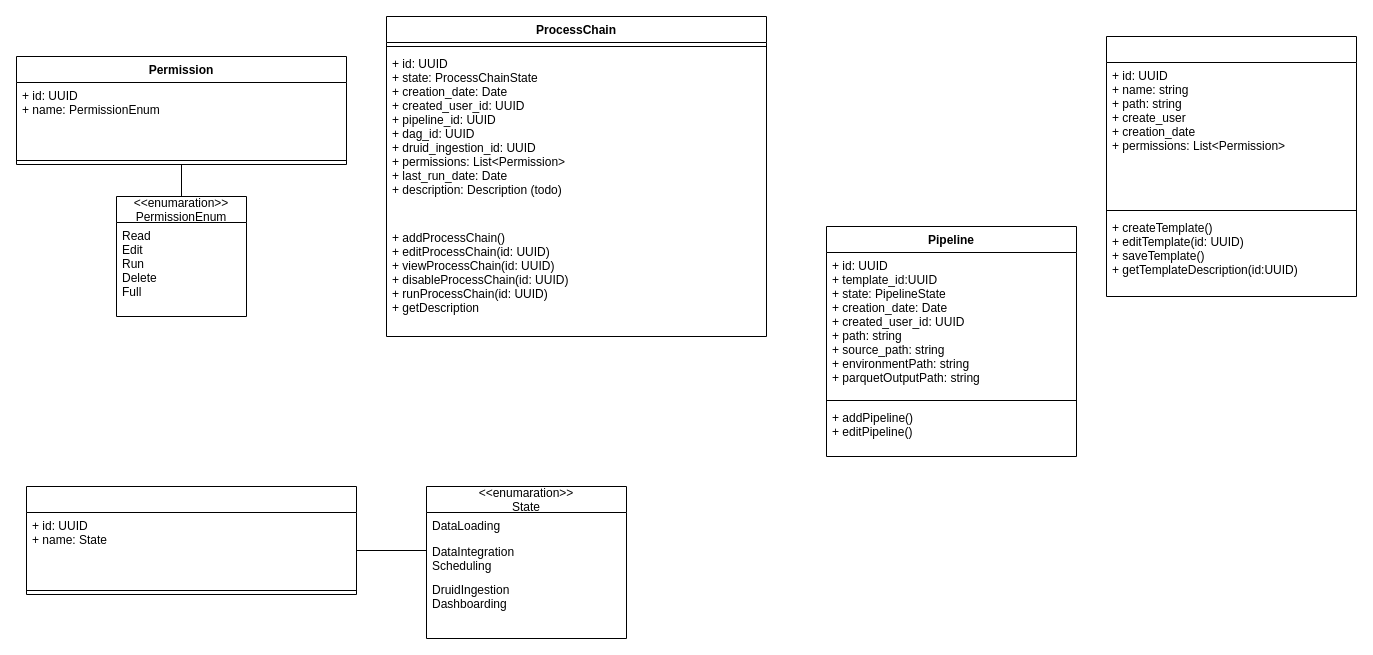
Some shapes in this 1373 by 655 pixel diagram are drawn without their labels. The box of each missing label's shape, as (x1, y1, x2, y2) in pixels:
PipelineTemplate: (1106, 36, 1356, 296)
ProcessChainState: (26, 486, 356, 594)
